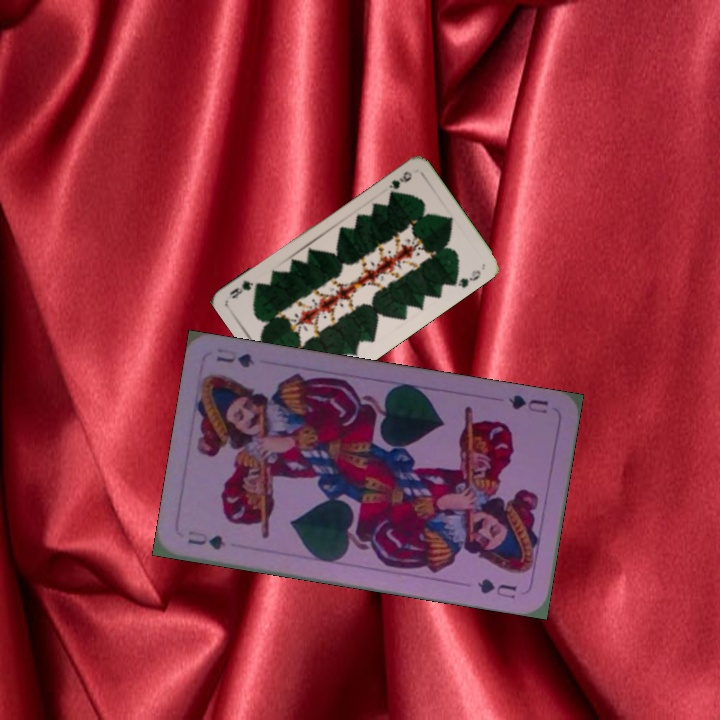G9: (385, 167, 415, 192)
GU: (504, 390, 551, 417), (183, 526, 228, 552)
